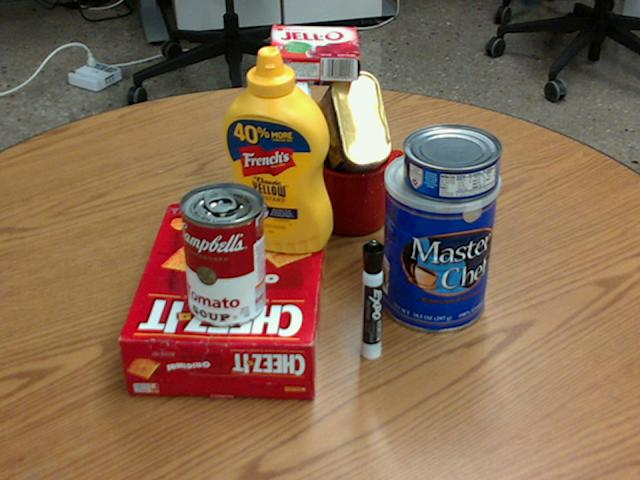cracker_box: (119, 205, 327, 399)
gelatin_box: (267, 26, 358, 82)
large_marker: (360, 239, 384, 359)
master_chef_can: (378, 147, 499, 332)
mug: (310, 132, 411, 234)
mustard_bottle: (220, 46, 331, 252)
potted_meat_can: (311, 72, 391, 188)
sugar_box: (265, 58, 308, 247)
tomato_soup_can: (179, 182, 266, 326)
tuna_fish_can: (402, 124, 501, 201)
